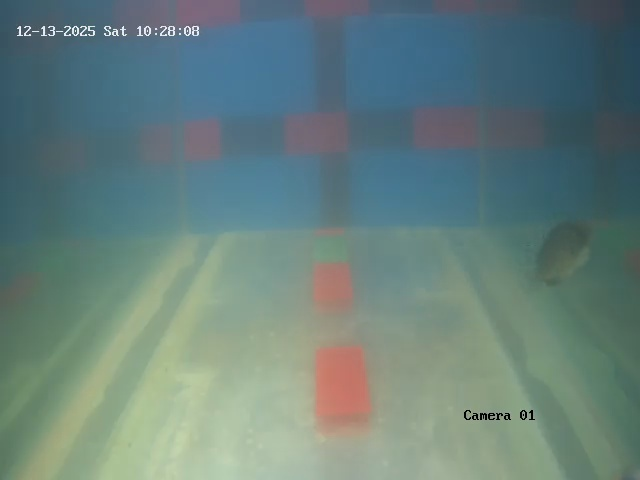fish: (528, 210, 584, 280)
